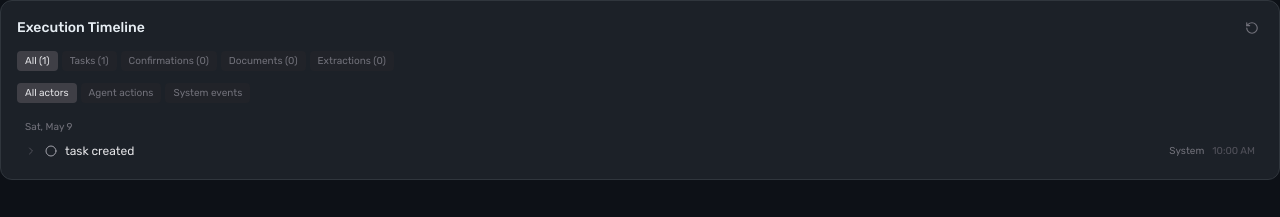
Test: ExecutionTimelinePanel Phase 5D › only renders keys in SAFE_METADATA_KEYS
The image size is (1280, 217).
Step 1. Click the text "task created" → (100, 151), box [65,144,134,158]
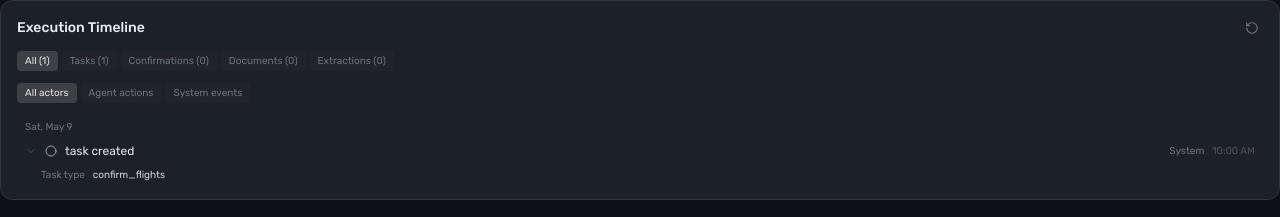
Expected: the text "Task type" is shown, [41,167,85,183]
